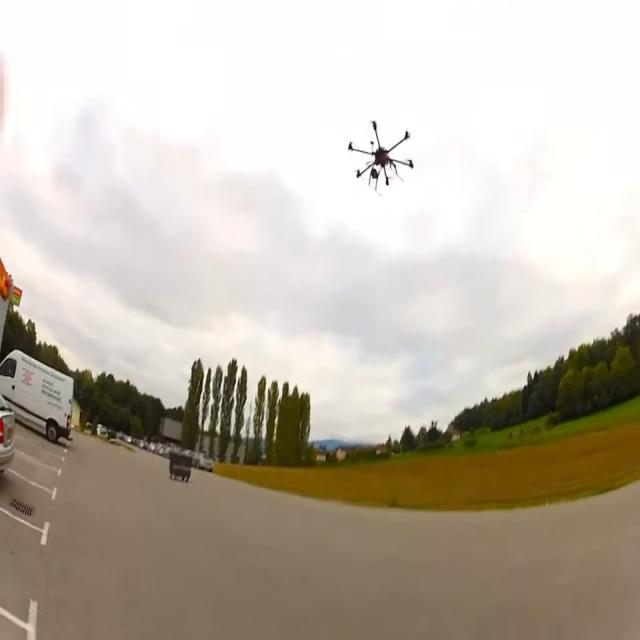drone: (348, 118, 413, 194)
